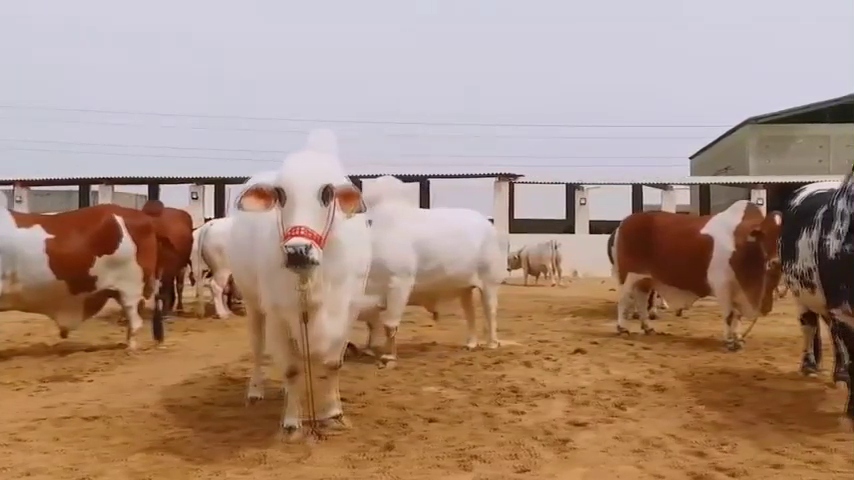bo: (230, 116, 370, 450), (598, 181, 784, 359), (360, 168, 511, 373), (1, 199, 165, 362), (783, 152, 854, 423), (136, 184, 196, 326), (183, 206, 235, 327), (499, 221, 571, 294)
